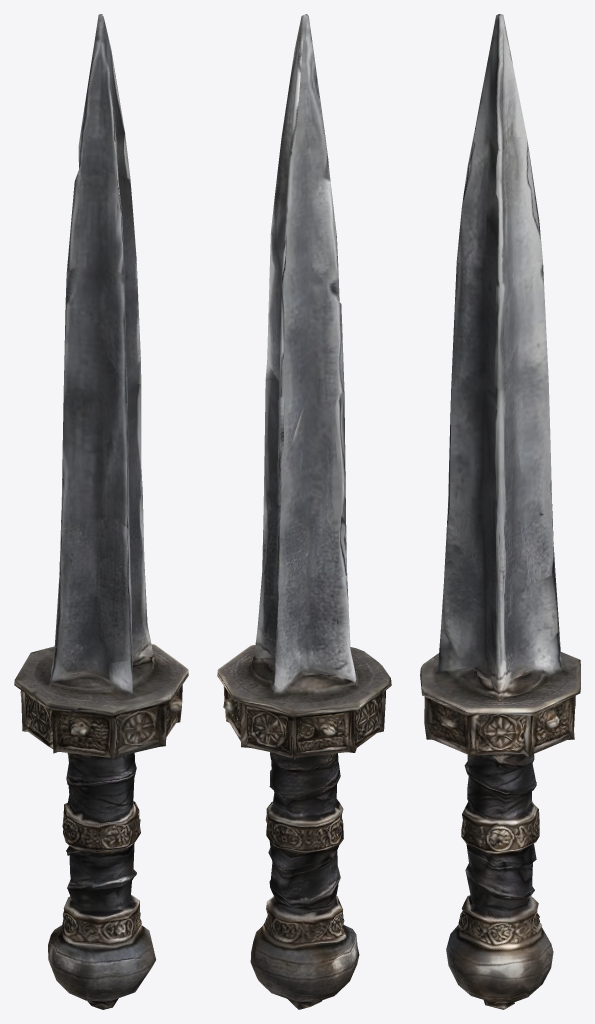
Rendered from sword.glb.
3 renders of one model, left to right at view 1: azimuth 30°, elevation 25°; view 2: azimuth 150°, elevation 25°; view 3: azimuth 270°, elevation 25°, orthographic.
Visible parts, largest first — view 1: tripo_node_d53f06c7-0b82-4384-b5b0-c94e5e851e6b; view 2: tripo_node_d53f06c7-0b82-4384-b5b0-c94e5e851e6b; view 3: tripo_node_d53f06c7-0b82-4384-b5b0-c94e5e851e6b.
Boxes of the visible parts, x1,y1,x2,y2 form: tripo_node_d53f06c7-0b82-4384-b5b0-c94e5e851e6b: (14, 14, 188, 1009); tripo_node_d53f06c7-0b82-4384-b5b0-c94e5e851e6b: (217, 14, 391, 1009); tripo_node_d53f06c7-0b82-4384-b5b0-c94e5e851e6b: (420, 14, 580, 1009).
Bounding box in the file's own units: 0.1475 × 0.9824 × 0.1444.
1 material, 1 textured.
